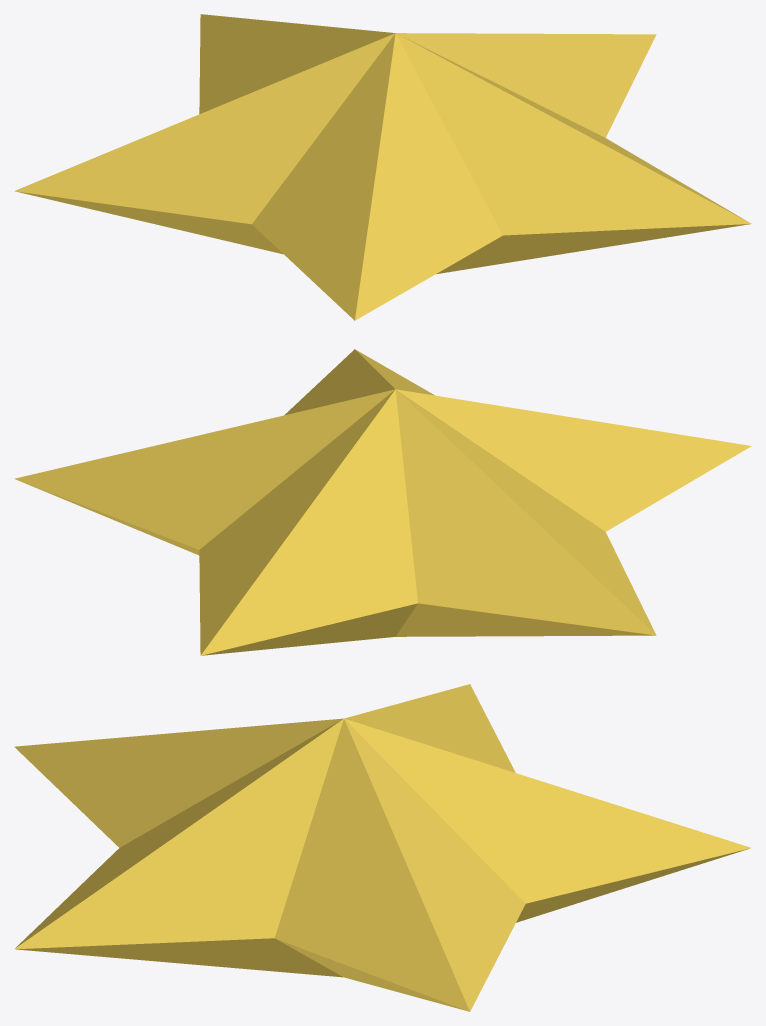
Rendered from star-03.glb.
3 renders of one model, top to bottom at view 1: azimuth 30°, elevation 25°; view 2: azimuth 150°, elevation 25°; view 3: azimuth 270°, elevation 25°, orthographic. The views are drawn at different scales.
Parts seen in each view (by area): view 1: star; view 2: star; view 3: star.
Boxes of the visible parts, bbox=[...] form: star: bbox=[14, 14, 751, 320]; star: bbox=[14, 349, 751, 655]; star: bbox=[14, 684, 750, 1011].
Size of the model in its own units: 1.9 by 0.7003 by 1.81.
